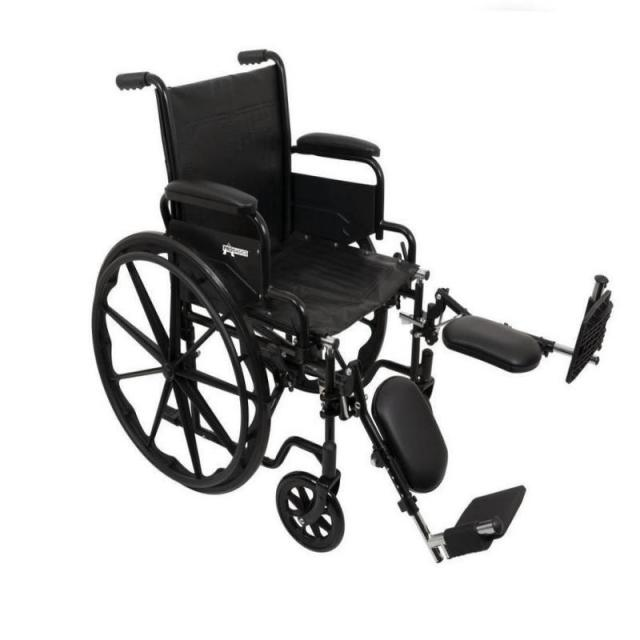wheelchair: (81, 12, 617, 590)
